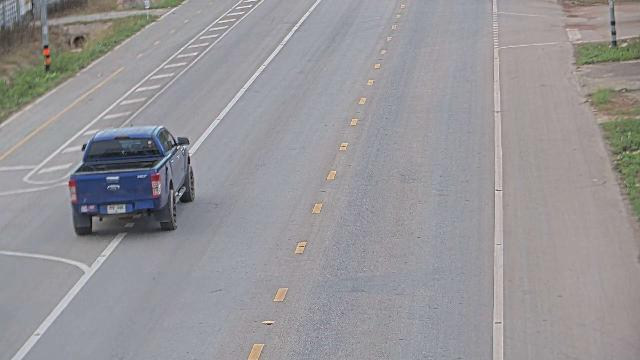pickup-truck: (67, 124, 195, 235)
